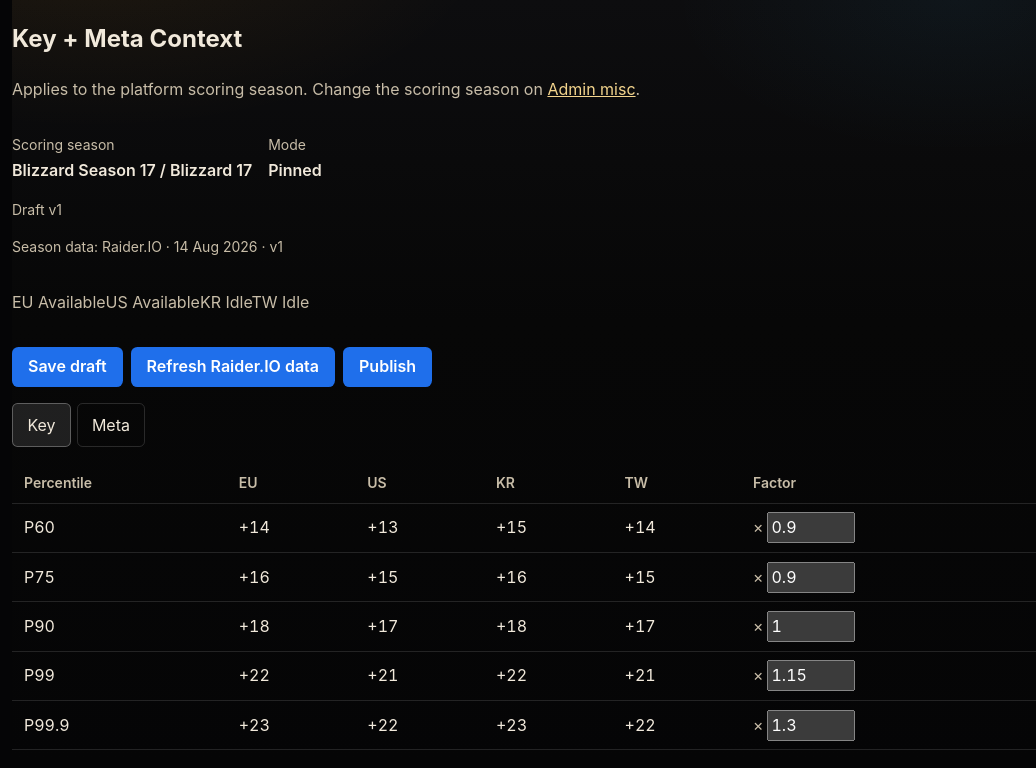
Test: AdminScoreContextPage › tab switch keeps unsaved factor edits
Replace the text in the number field with test id "key-factor-9000" with "0.95": (812, 626) [768,611,856,642]
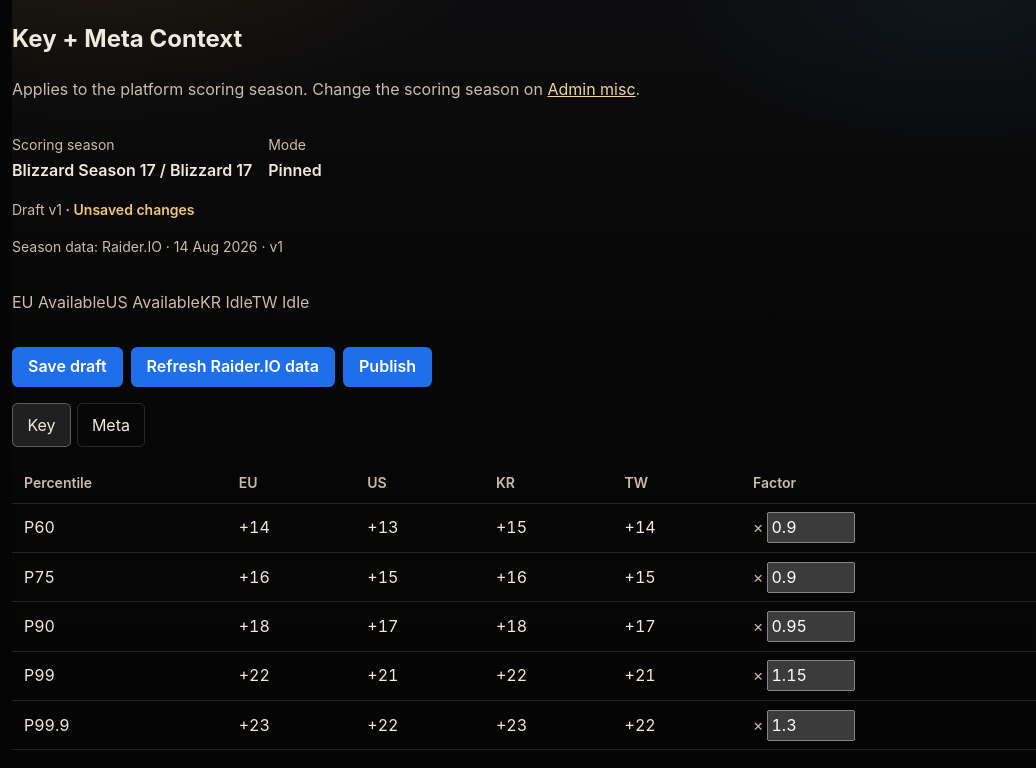
Click the button with test id "tab-meta": click(111, 425) [76,403,145,447]
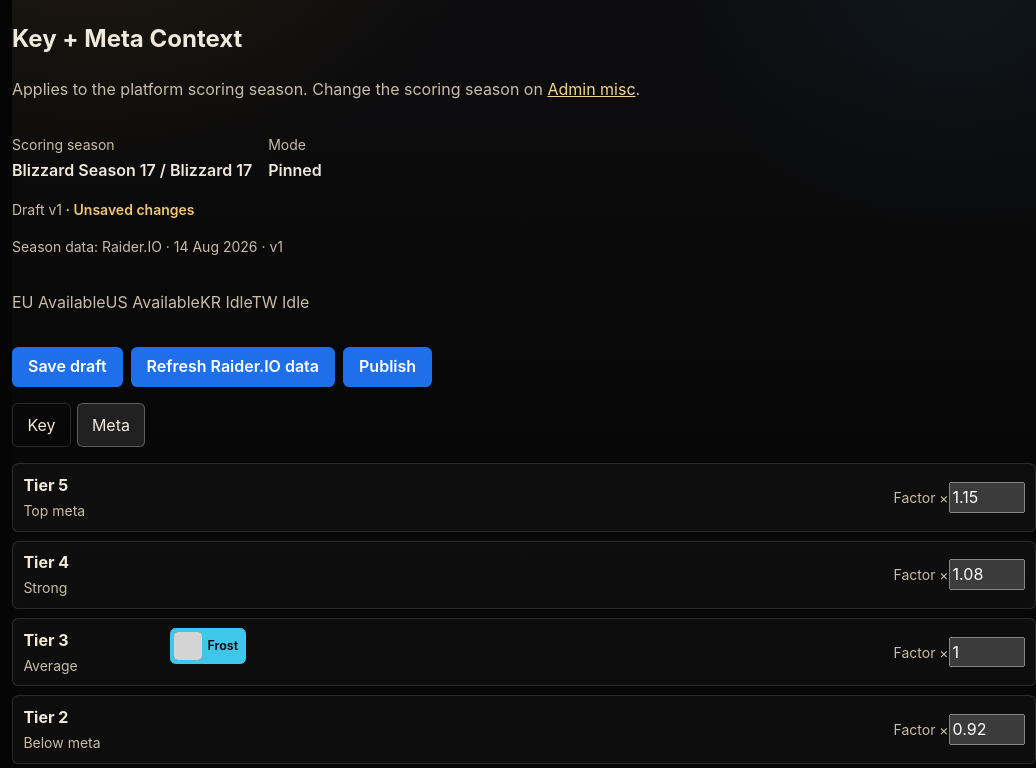
Click the button with test id "tab-key": click(41, 425) [12,403,71,447]
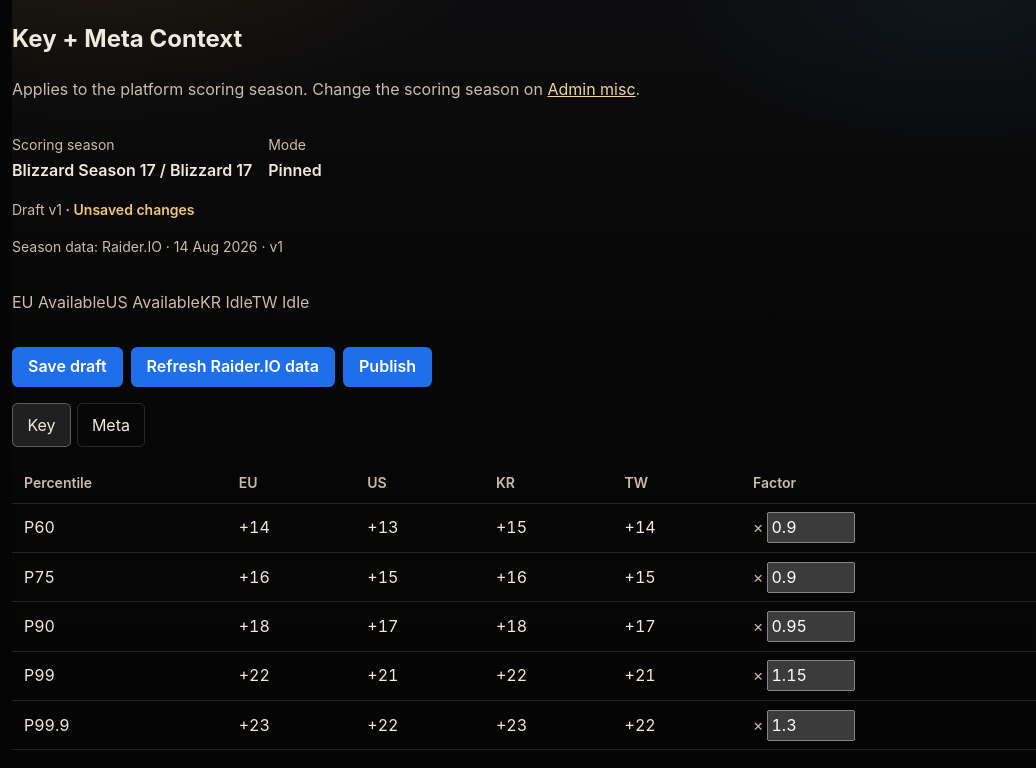
Now the text "· Unsaved changes" is shown, box [62,201,194,218]
Now the number field with test id "key-factor-9000" holds "0.95", box [768,611,856,642]
